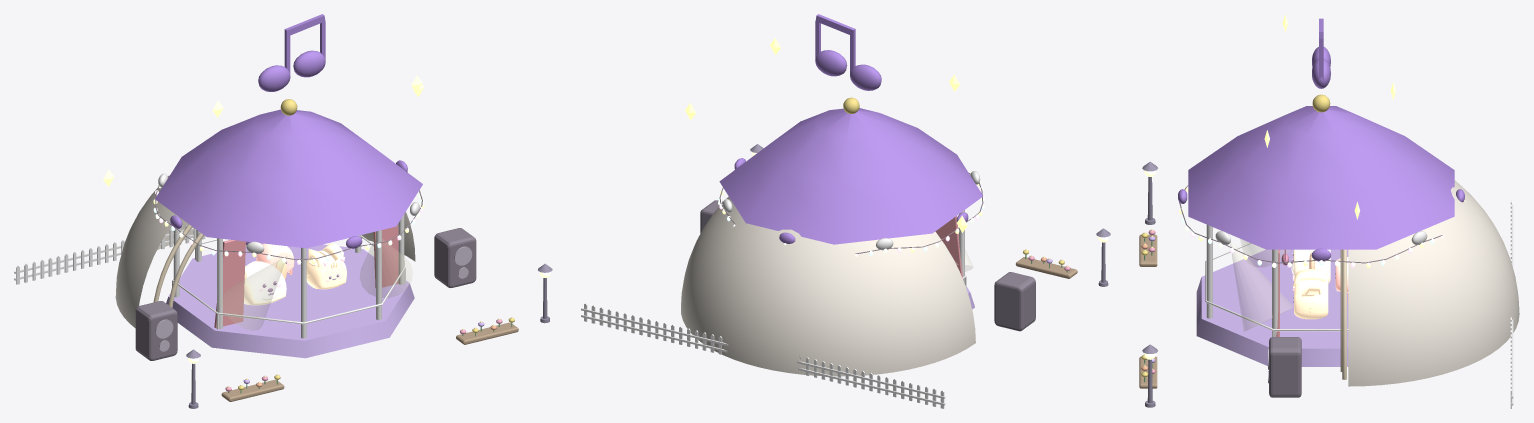
File: building_bandstand_L10.glb
The picture shows the model from 3 angles, left to right: view 1: azimuth 30°, elevation 25°; view 2: azimuth 150°, elevation 25°; view 3: azimuth 270°, elevation 25°; orthographic projection. The views are drawn at different scales.
Visible parts, largest first — view 1: Body, bandstand_L10, object 17, object 7, object 29; view 2: Body, bandstand_L10; view 3: Body, bandstand_L10, object 17, object 7.
Part boxes in pixels (box(x1,y1,x2,y2)): Body: box(115, 14, 476, 360); bandstand_L10: box(14, 75, 552, 408); object 17: box(306, 243, 346, 289); object 7: box(244, 261, 286, 305); object 29: box(256, 243, 294, 272); Body: box(681, 14, 1035, 376); bandstand_L10: box(581, 38, 1110, 408); Body: box(1178, 18, 1519, 397); bandstand_L10: box(1139, 14, 1513, 408); object 17: box(1294, 269, 1328, 319); object 7: box(1293, 249, 1330, 283).
Bounding box in the file's own units: 25.2 × 18.39 × 21.1.
